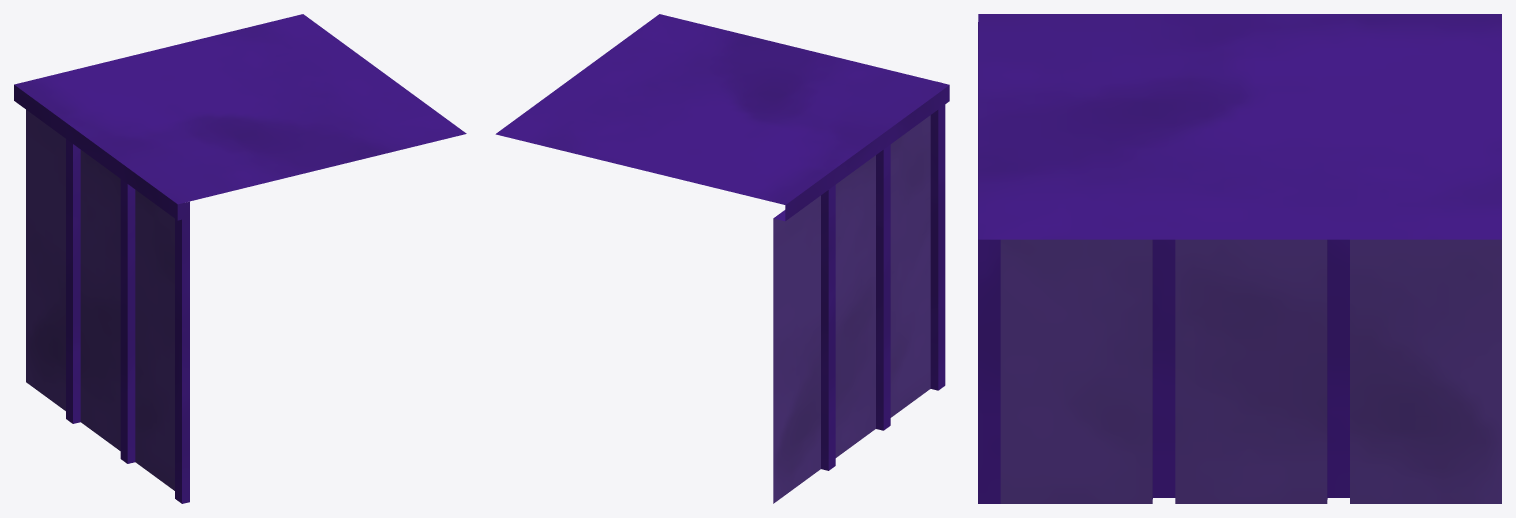
Rendered from SM_Studio-Wall-w.Roof.fbx.
3 views of the same model, side by side, from view 1: azimuth 30°, elevation 25°; view 2: azimuth 150°, elevation 25°; view 3: azimuth 270°, elevation 25° (orthographic). The views are drawn at different scales.
Parts seen in each view (by area): view 1: Studio Wall w/ roof; view 2: Studio Wall w/ roof; view 3: Studio Wall w/ roof.
Boxes of the visible parts, left/top/right/bottom form: Studio Wall w/ roof: left=14, top=14, right=466, bottom=503; Studio Wall w/ roof: left=495, top=14, right=949, bottom=503; Studio Wall w/ roof: left=978, top=14, right=1501, bottom=503.
Size of the model in its own units: 9.49 by 9.43 by 9.32.
